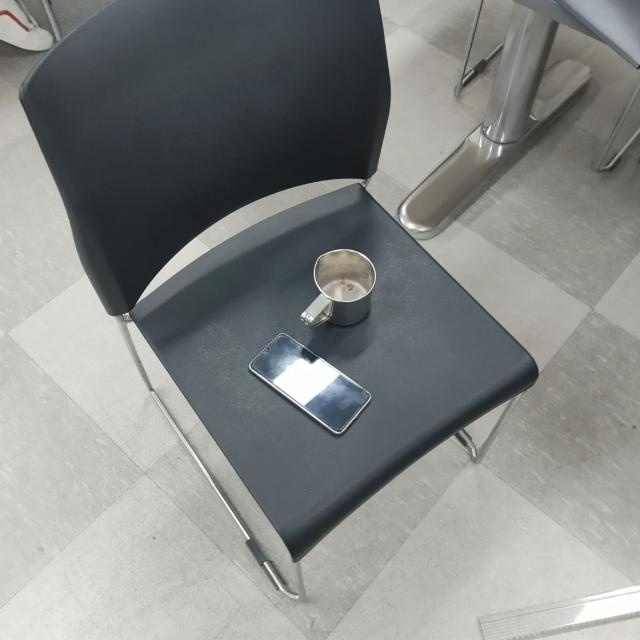cup: (299, 247, 377, 330)
phone: (250, 332, 372, 438)
